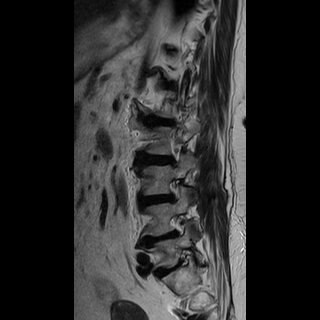LFS0: (163, 173, 189, 207)
